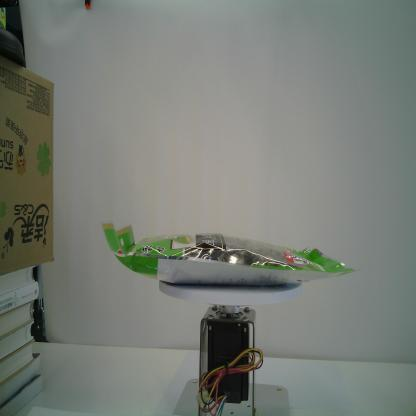Dried Food: (102, 222, 362, 286)
